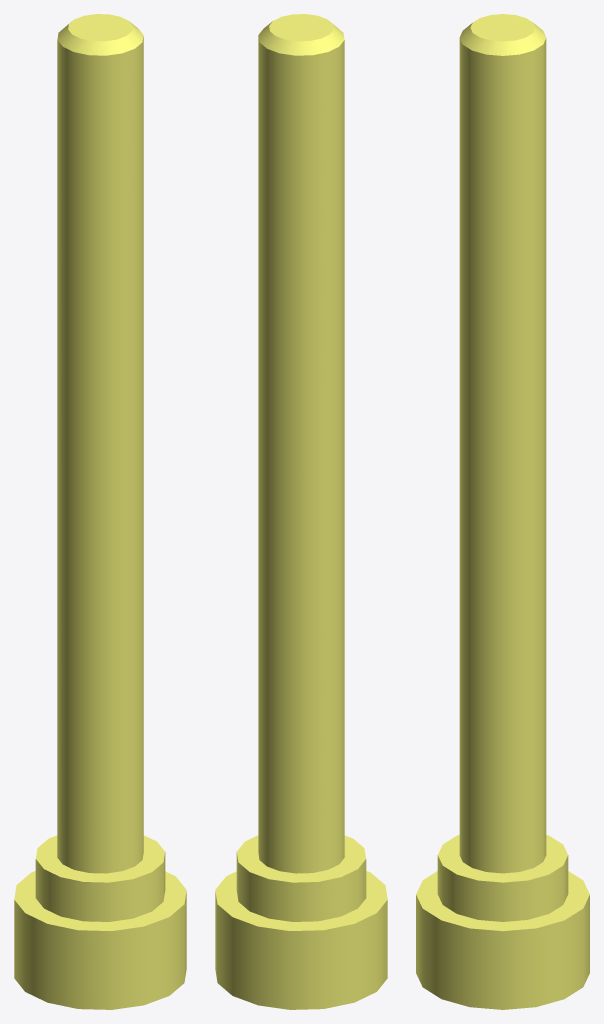
3 renders of one model, left to right at view 1: azimuth 30°, elevation 25°; view 2: azimuth 150°, elevation 25°; view 3: azimuth 270°, elevation 25°, orthographic.
Parts seen in each view (by area): view 1: 3957b.dat; view 2: 3957b.dat; view 3: 3957b.dat.
Part boxes in pixels (x1,y1,x2,y2): 3957b.dat: (14,14,186,1009); 3957b.dat: (215,14,387,1009); 3957b.dat: (416,14,589,1009).
Bounding box in the file's own units: 0.0064 × 0.0384 × 0.0064.
